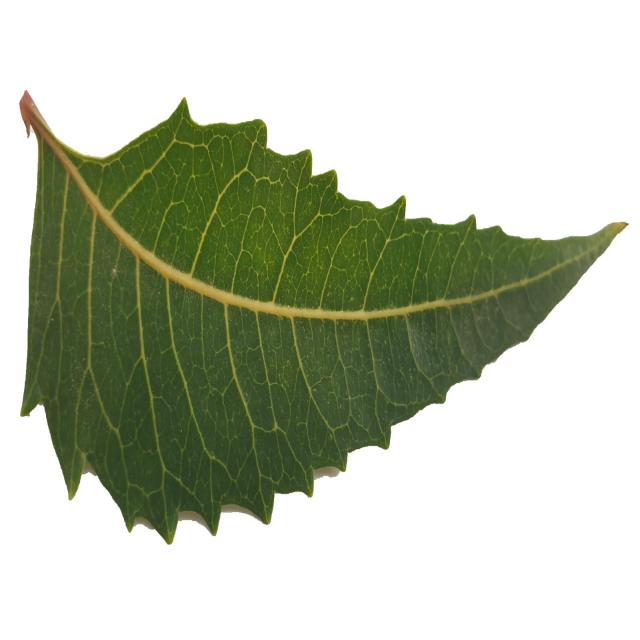Medicinal-Neem: (17, 86, 631, 545)
